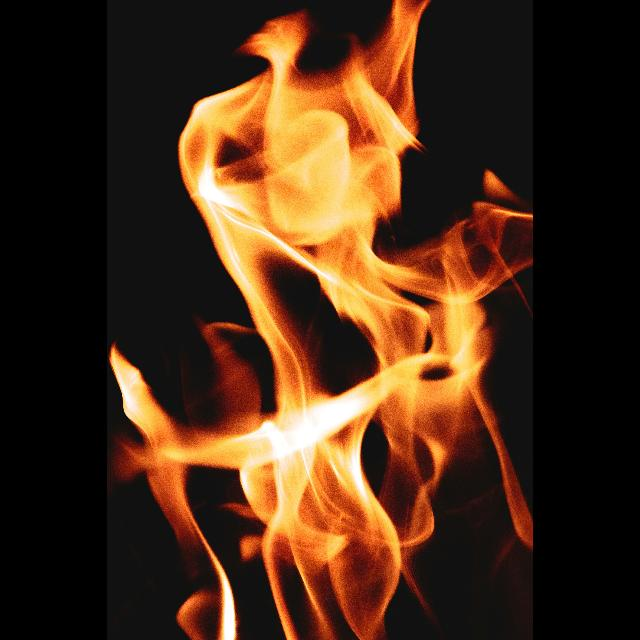fire: (109, 0, 534, 640)
